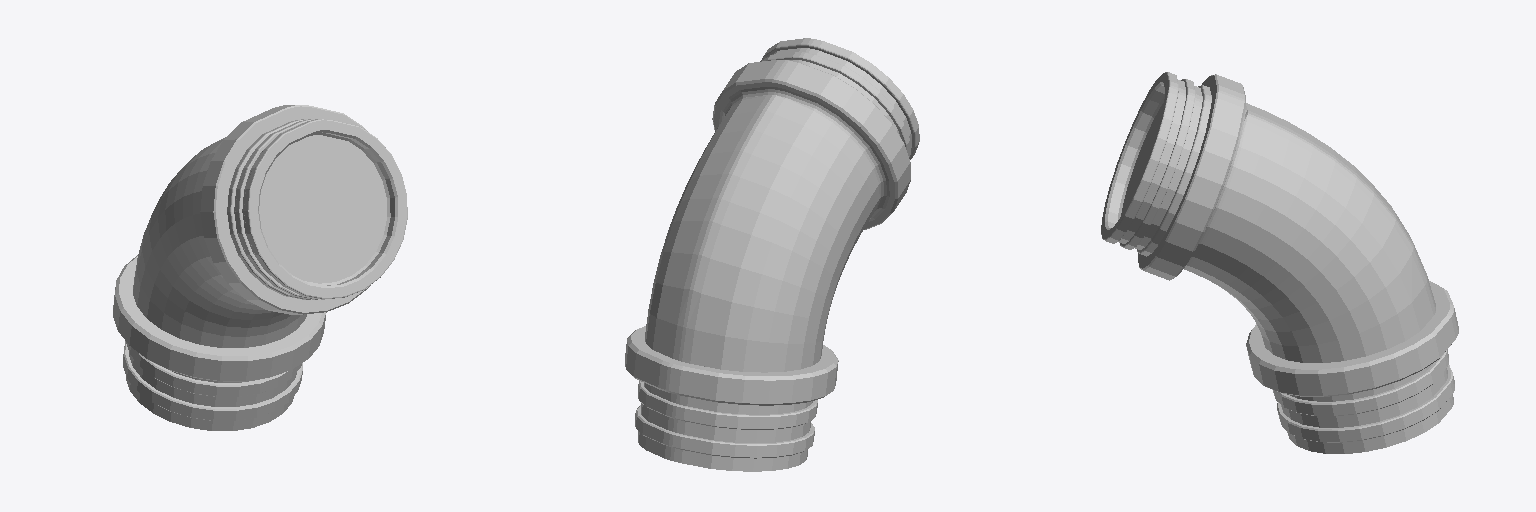
The model's file is Pipe Turn 2.obj.
The picture shows the model from 3 angles: view 1: azimuth 30°, elevation 25°; view 2: azimuth 150°, elevation 25°; view 3: azimuth 270°, elevation 25°; orthographic projection.
Visible parts, largest first — view 1: Cylinder.002; view 2: Cylinder.002; view 3: Cylinder.002.
Boxes of the visible parts, x1,y1,x2,y2 form: Cylinder.002: [113, 105, 407, 430]; Cylinder.002: [625, 38, 919, 471]; Cylinder.002: [1101, 72, 1458, 453].
Size of the model in its own units: 0.5386 by 0.9754 by 0.9062.